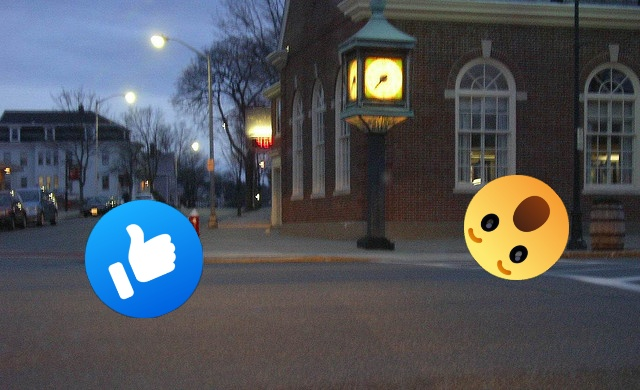like: (85, 200, 203, 318)
wow: (464, 175, 569, 280)
